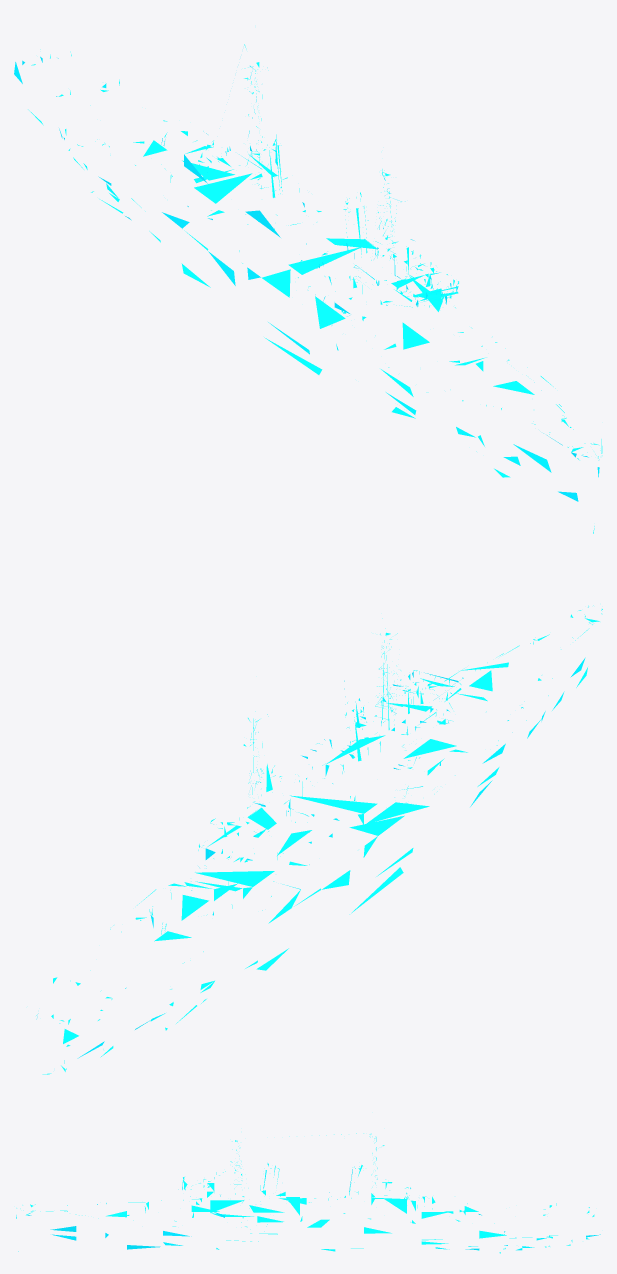
File: AZUR_Cheshire.glb
The picture shows the model from 3 angles, top to bottom: view 1: azimuth 30°, elevation 25°; view 2: azimuth 150°, elevation 25°; view 3: azimuth 270°, elevation 25°; orthographic projection. The views are drawn at different scales.
Size of the model in its own units: 1.6 by 3.52 by 13.42.
